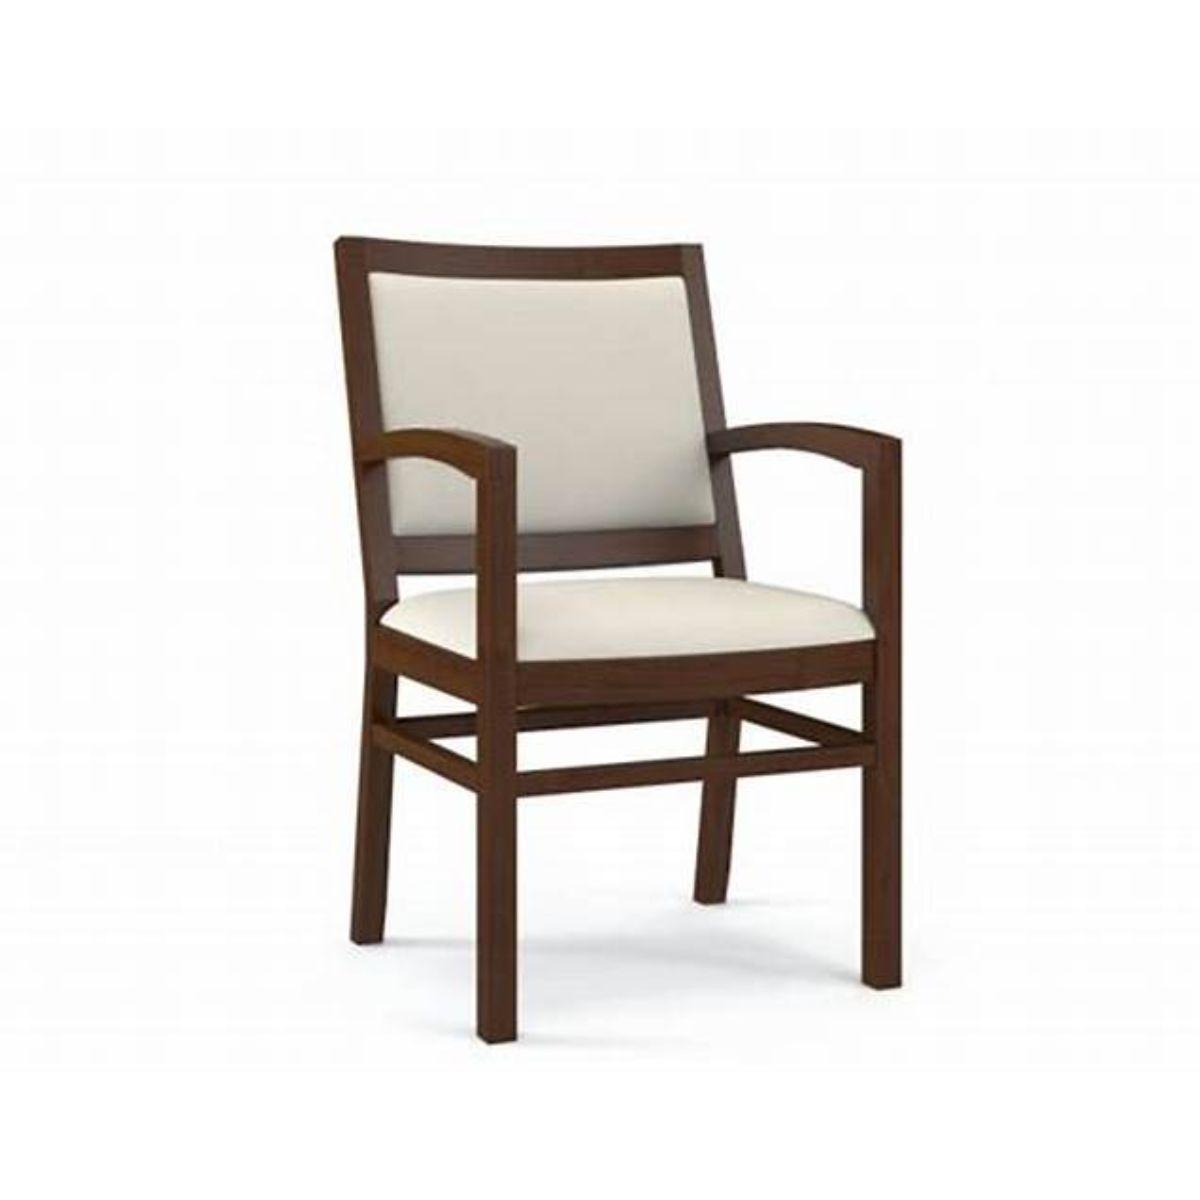Chair: (334, 230, 909, 1045)
